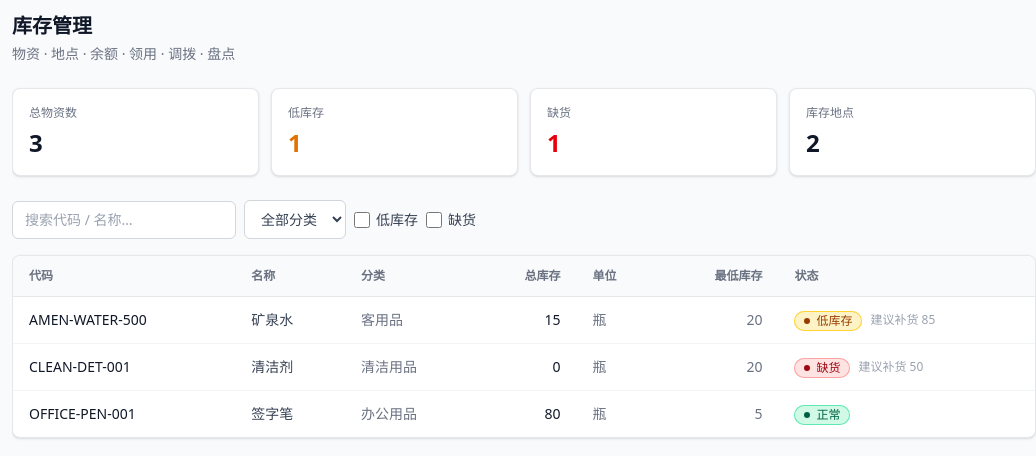
Test: 库存工作台（Sprint 7 §40） › 低库存/缺货勾选过滤
Expected: the text "矿泉水" is shown, x1=235 y1=296 x2=345 y2=344
Click the checkbox named "只看缺货" at (434, 220), box x1=426 y1=212 x2=442 y2=228
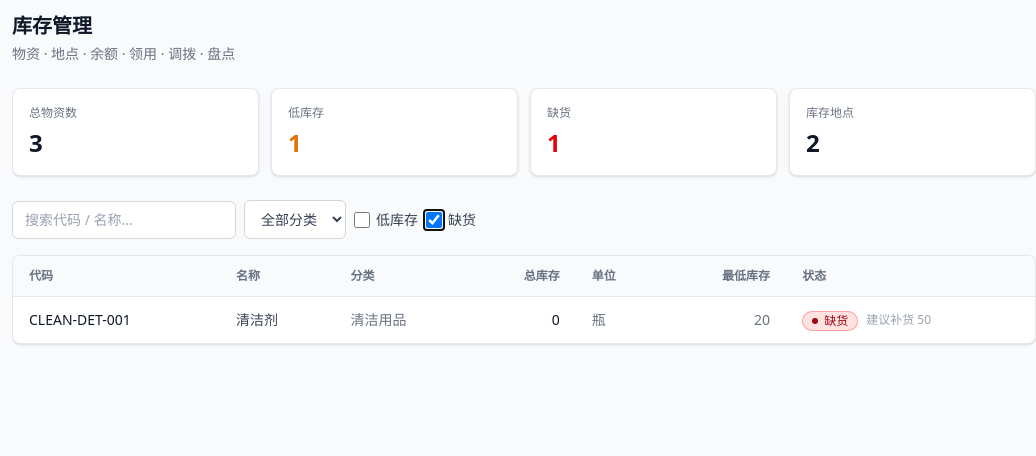
Expected: the text "清洁剂" is shown, x1=220 y1=296 x2=334 y2=343
Expected: the text "矿泉水" is gone
Expected: the text "签字笔" is gone
